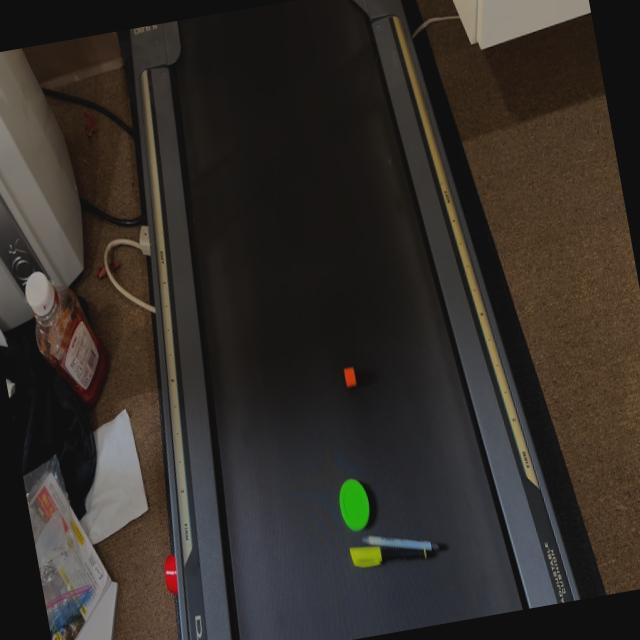Trash: (334, 463, 443, 577), (342, 366, 358, 388)
